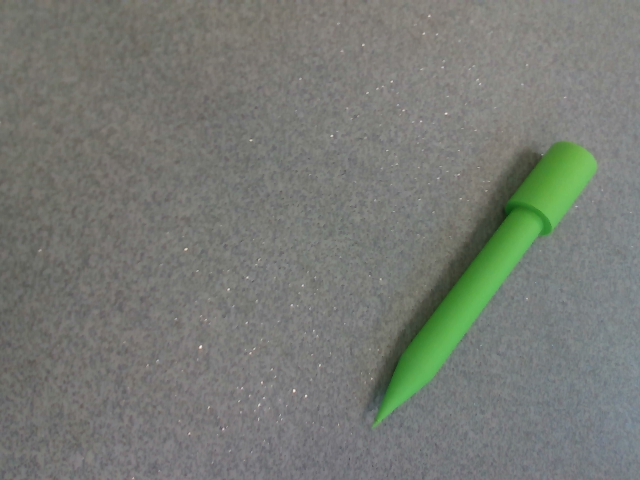Probe: (364, 132, 606, 437)
